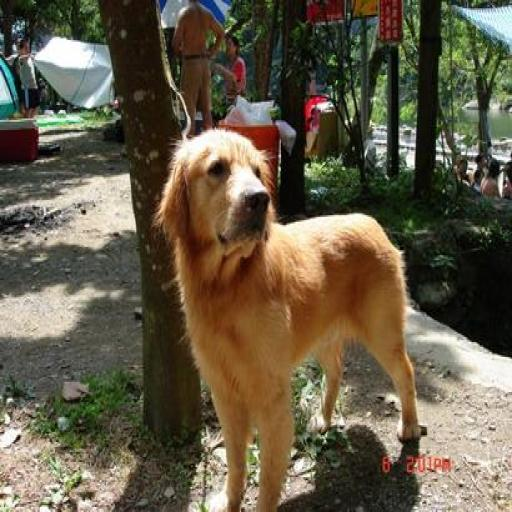dog_face: (158, 134, 277, 254)
